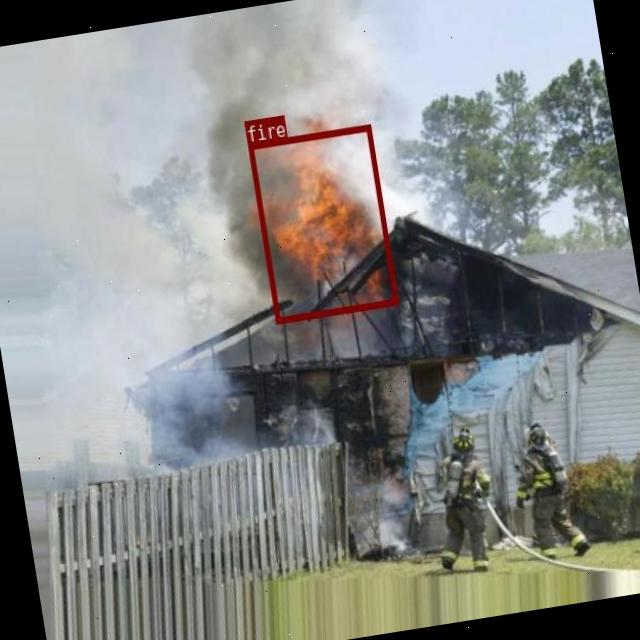fire: (248, 124, 398, 322)
